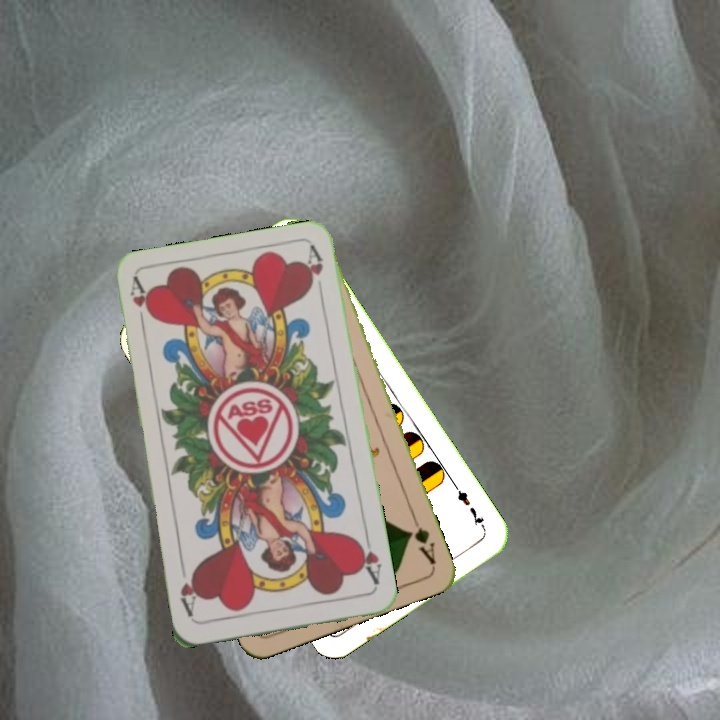E7: (450, 481, 488, 533)
GA: (404, 511, 439, 567)
HA: (352, 530, 384, 588), (126, 275, 153, 335)
